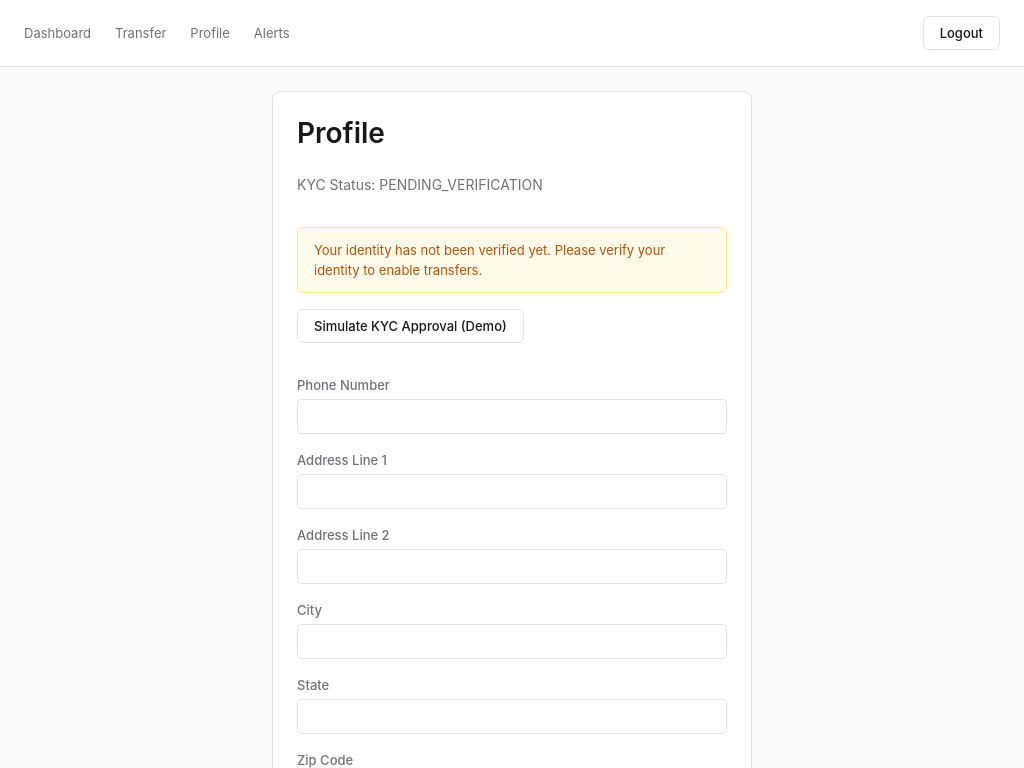
Test case: ProfileComponent › shows an error message when saving fails
Type "+15551234567" into the field below "Phone Number". click: (512,416)
box: [297,399,727,434]
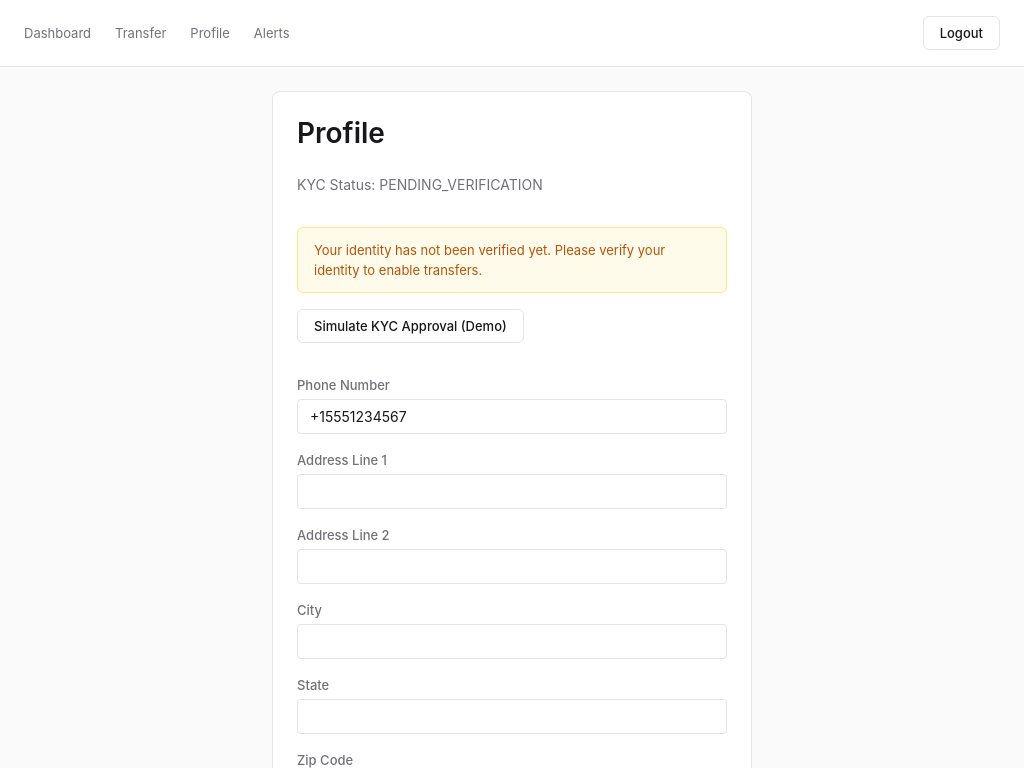
Type "123 Main St" into the field below "Address Line 1". click: (512,492)
box: [297,474,727,509]
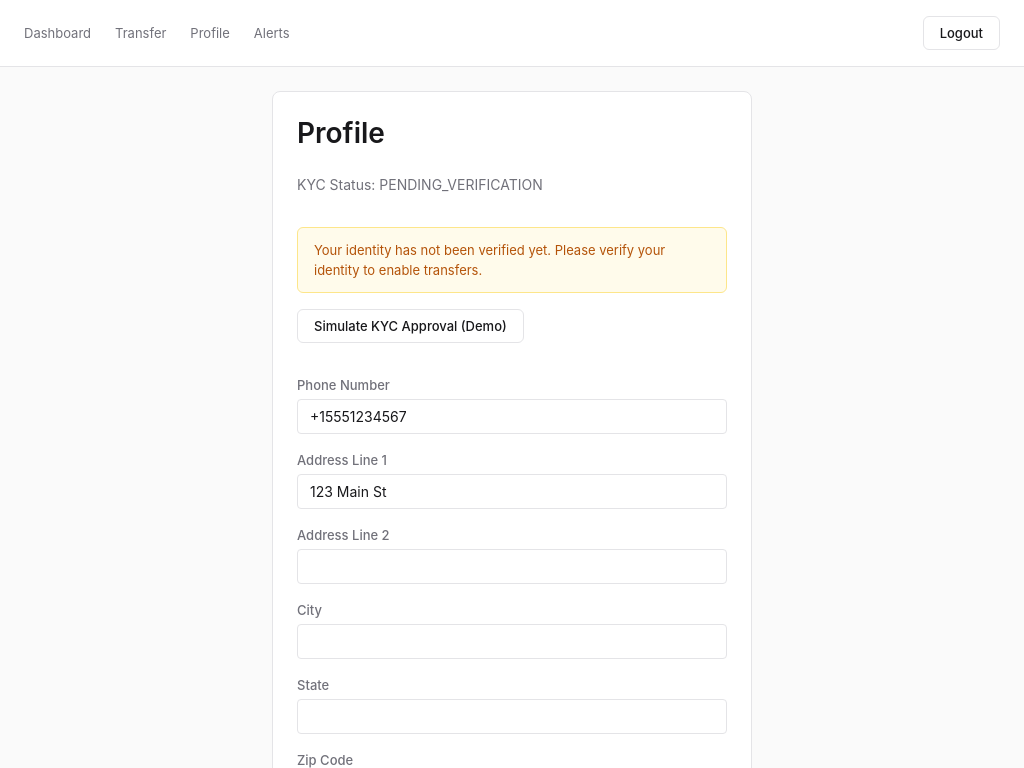
Type "Springfield" into the field below "City". click: (512,642)
box: [297,624,727,659]
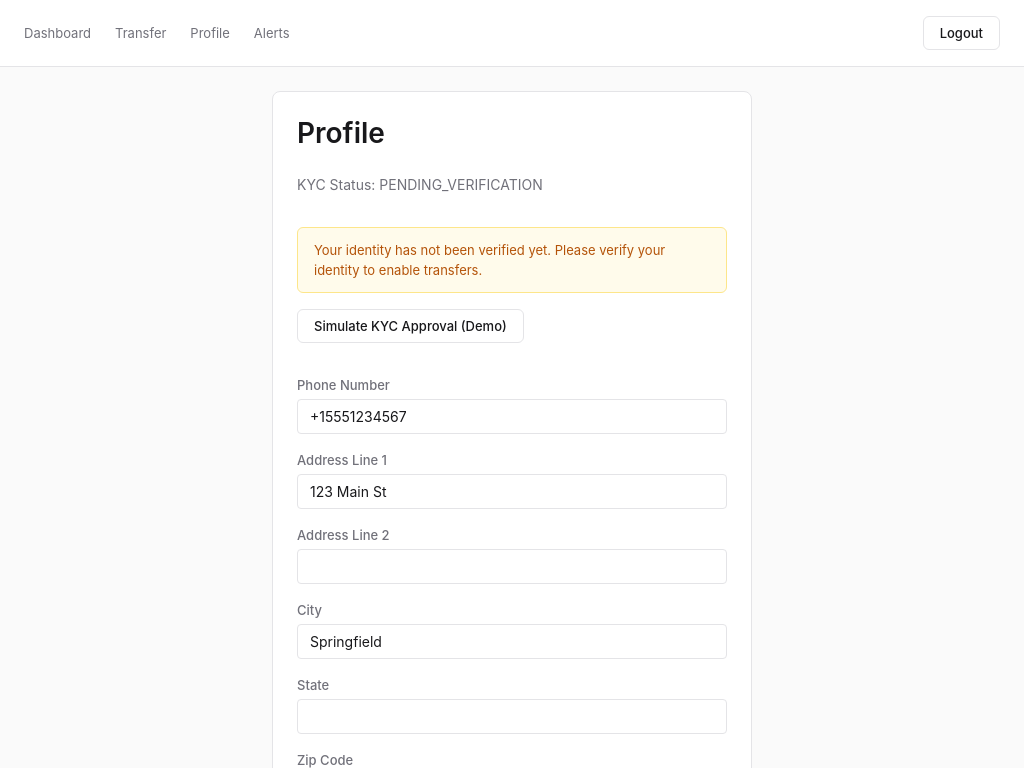
Type "IL" into the field below "State". click: (512,716)
box: [297,699,727,734]
(page scrolled)
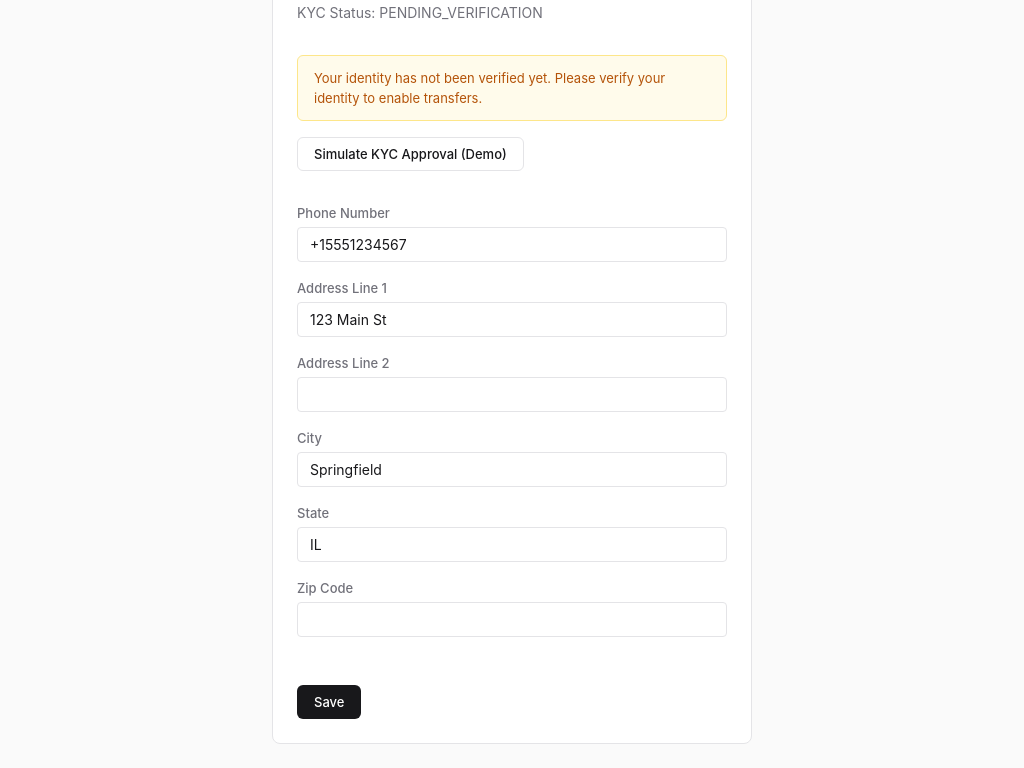
Type "62704" into the field below "Zip Code". click: (512,620)
box: [297,602,727,637]
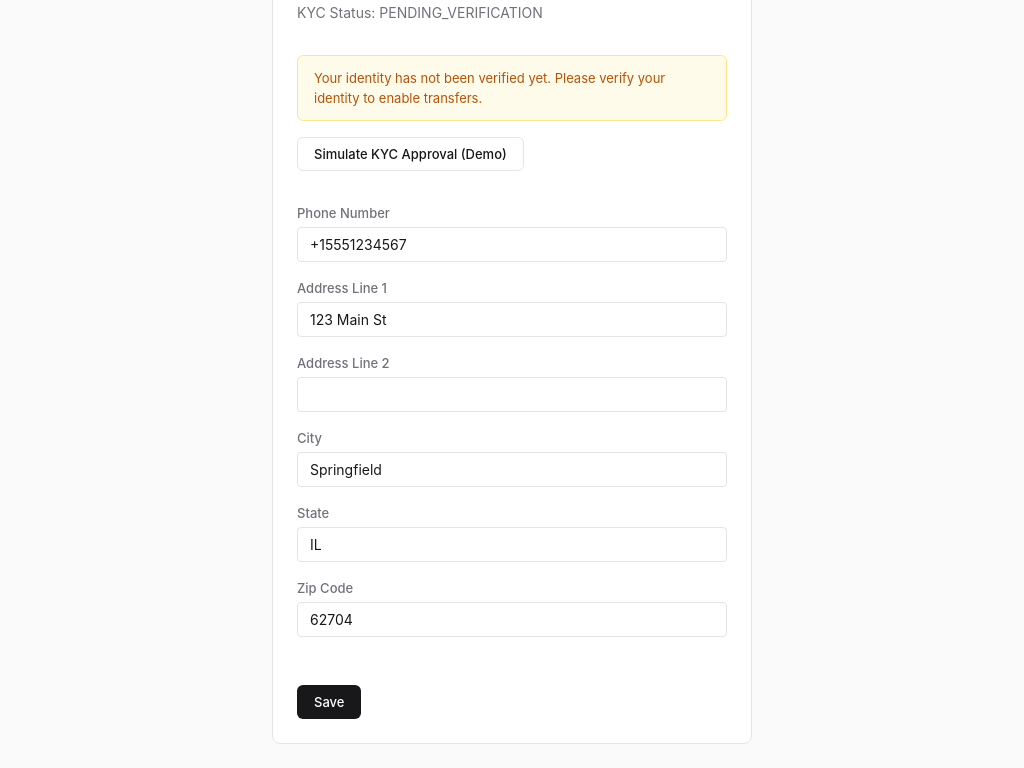
Click the button "Save". click: (329,702)
box: [297,685,361,719]
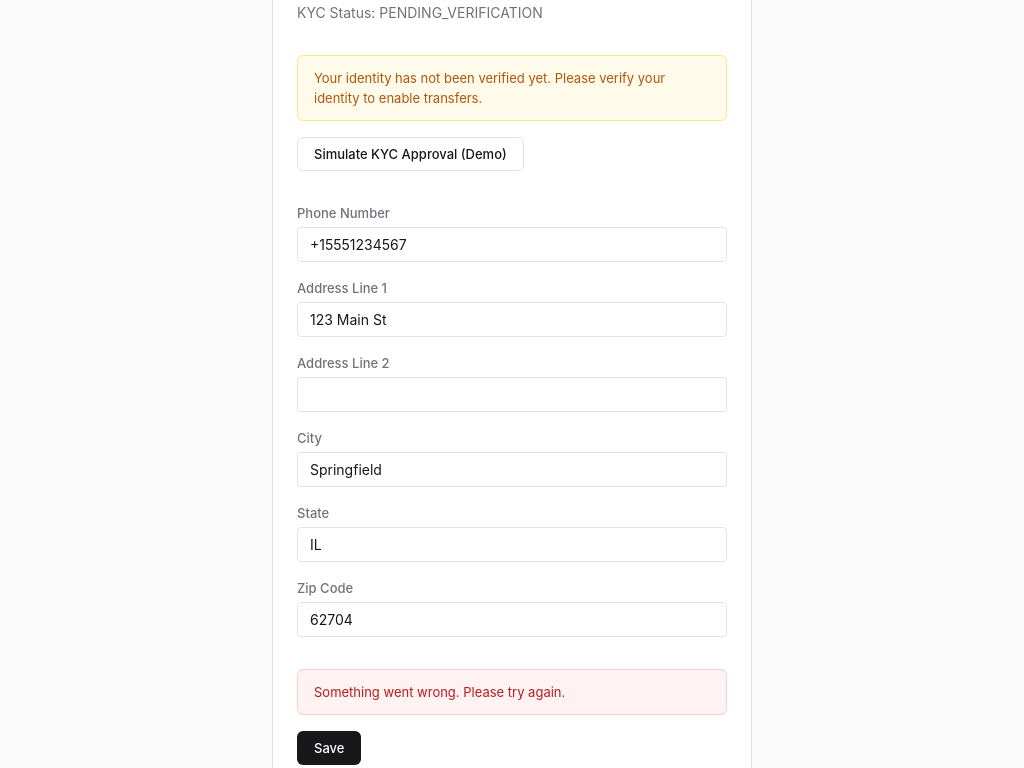
Result: the text "Something went wrong" is shown at [314,684,565,700]
